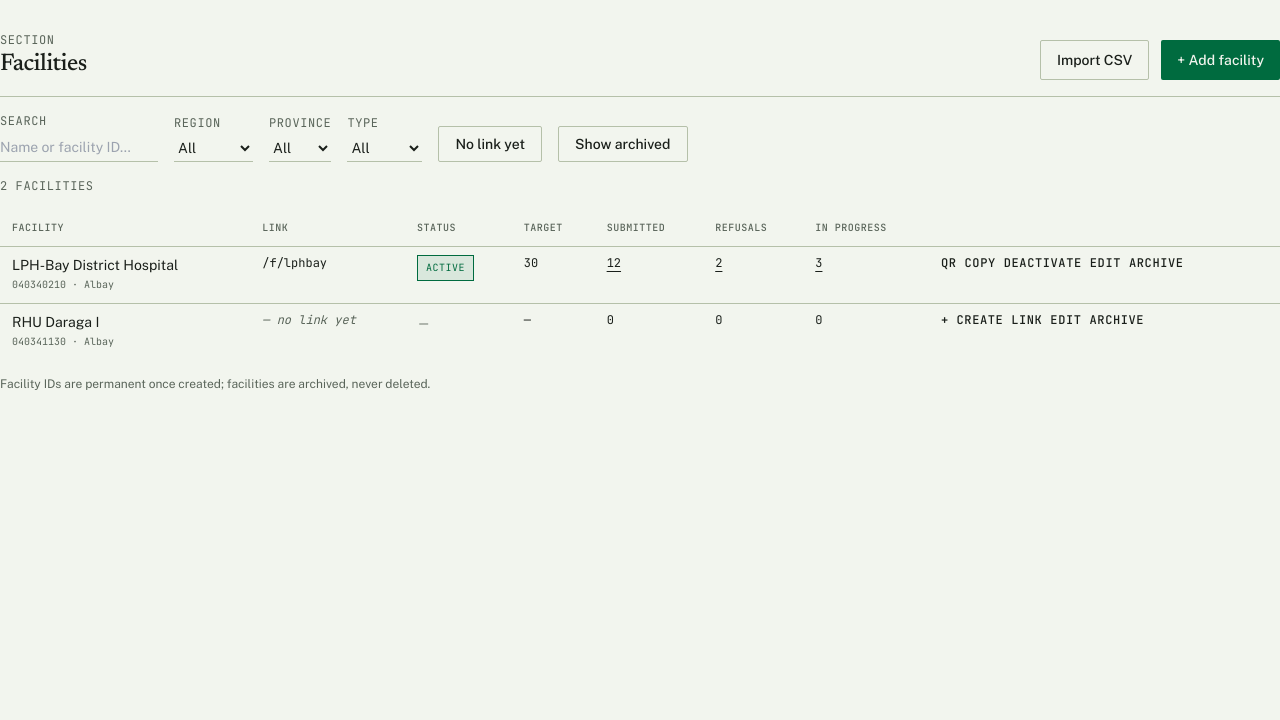
<FacilitiesPage /> › Add facility opens the create dialog; Edit opens it pre-filled with a frozen id
Click the button with test id "facilities-add" at {"x": 1221, "y": 60}, box x1=1161 y1=40 x2=1279 y2=80
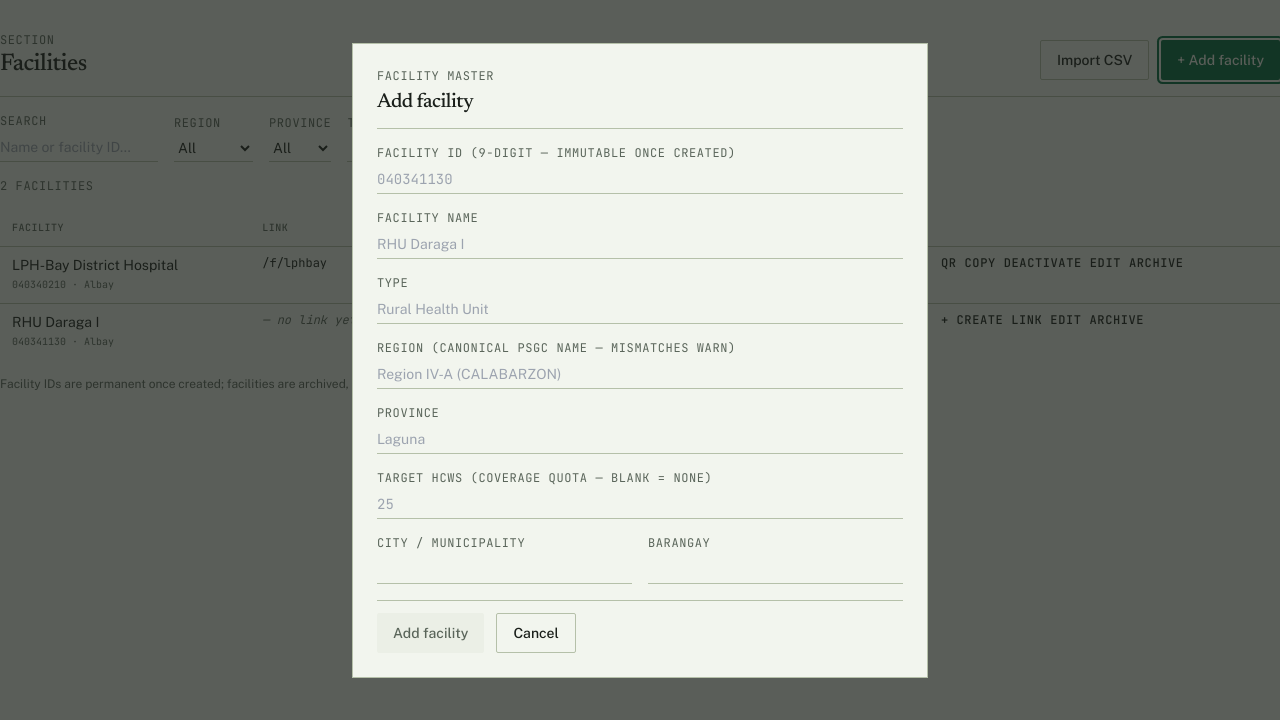
Expected: the field with test id "edit-facility-id" is shown, x1=377 y1=164 x2=903 y2=194
Press Escape
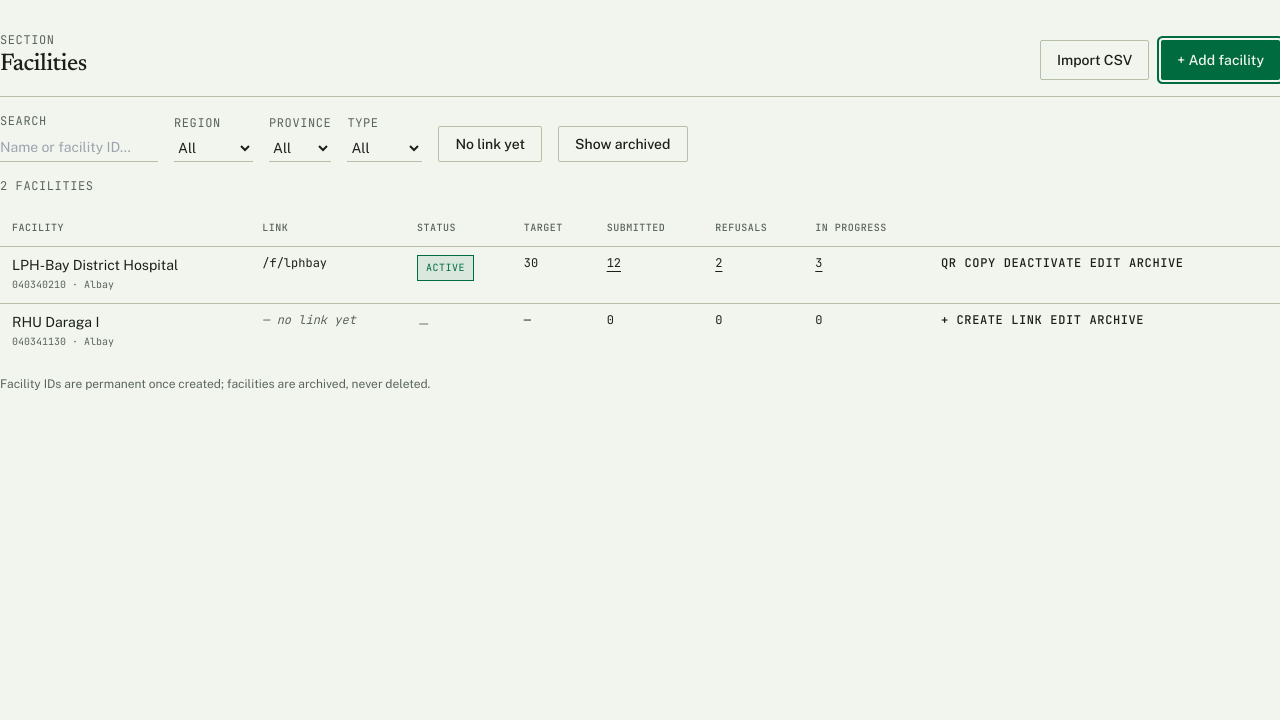
Click the button with test id "facility-edit-040340210" at {"x": 1105, "y": 263}, box x1=1090 y1=255 x2=1121 y2=271
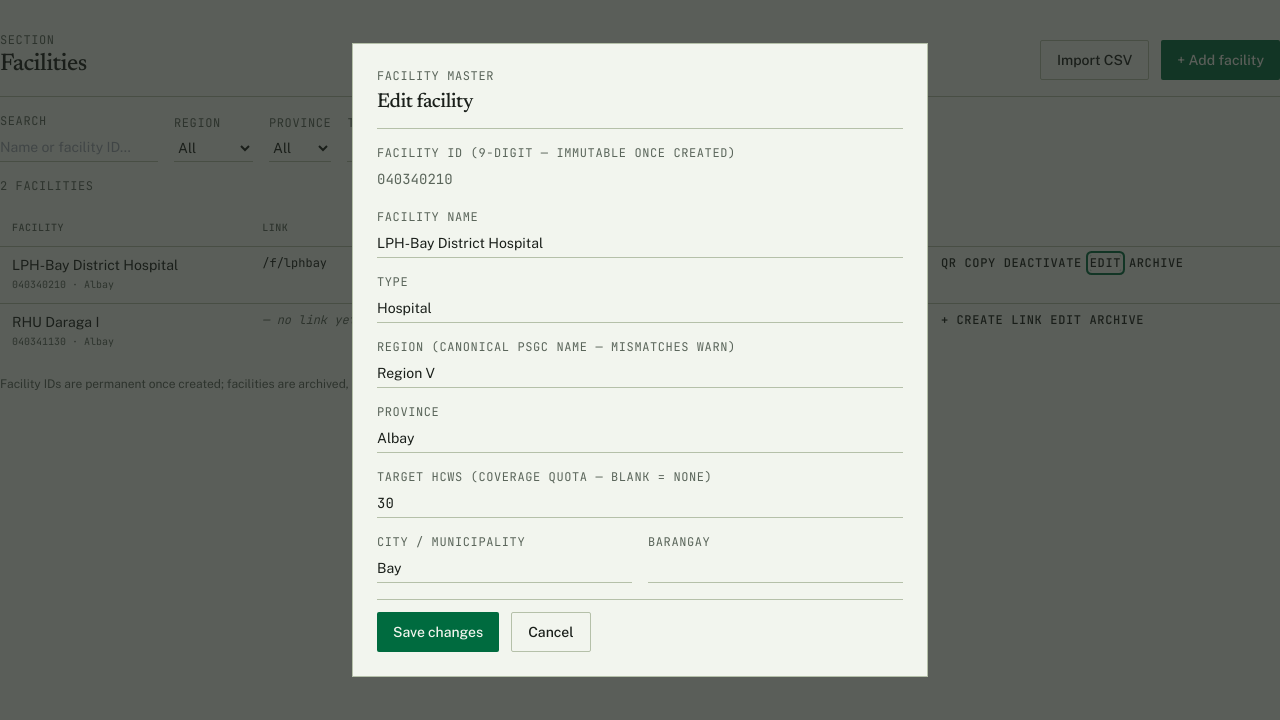
Expected: the text with test id "edit-facility-id-frozen" reads "040340210", x1=377 y1=170 x2=453 y2=188
